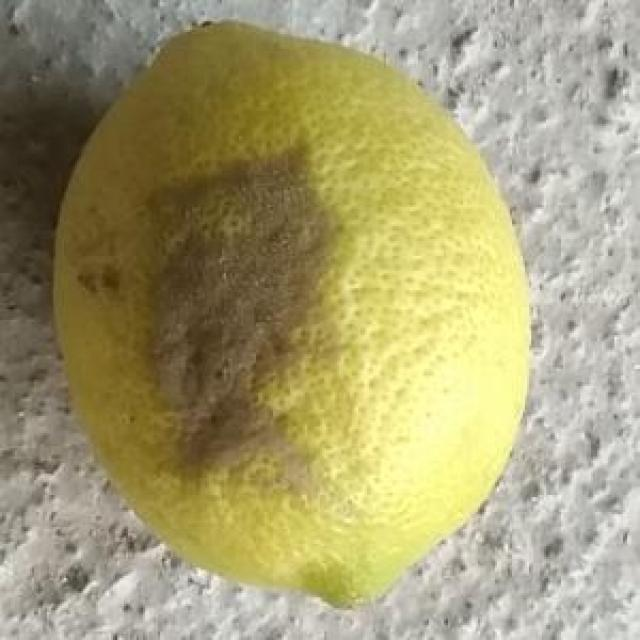lemon: (50, 13, 531, 611)
